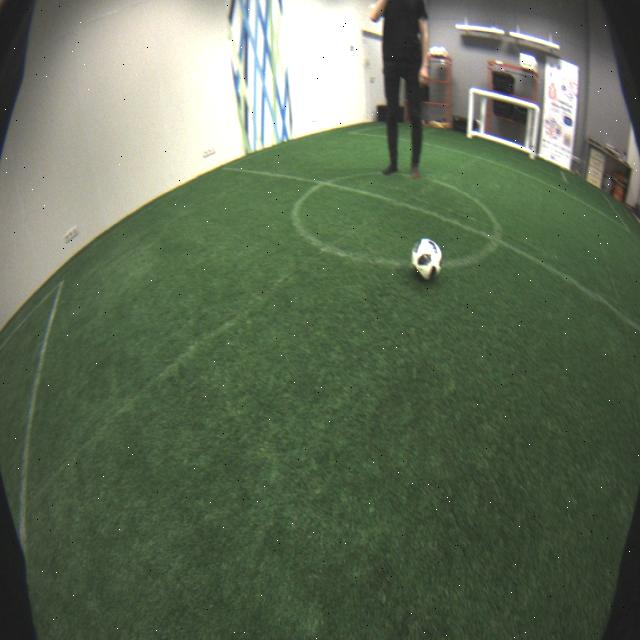ball: (411, 238, 442, 282)
goalpost: (529, 107, 542, 158), (466, 89, 475, 138)
